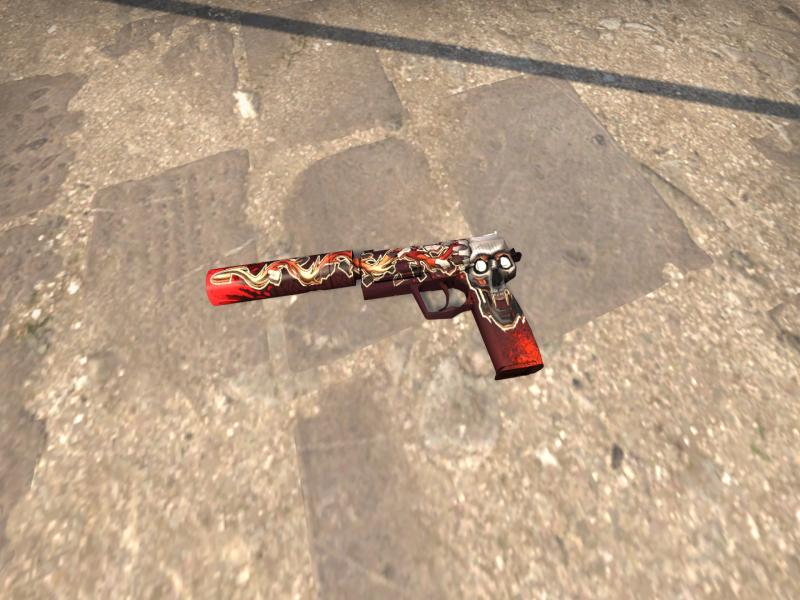USP: (206, 234, 542, 378)
